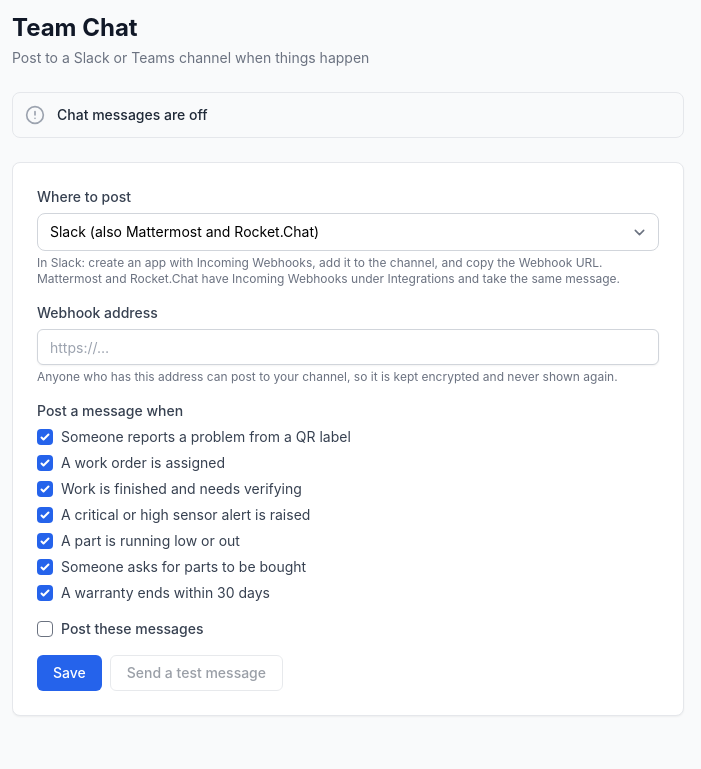
Test: ChatSettingsPage › does not offer to turn messages on without an address
Click the checkbox labelled "Post these messages".
click(45, 629)  # box [37, 621, 53, 637]
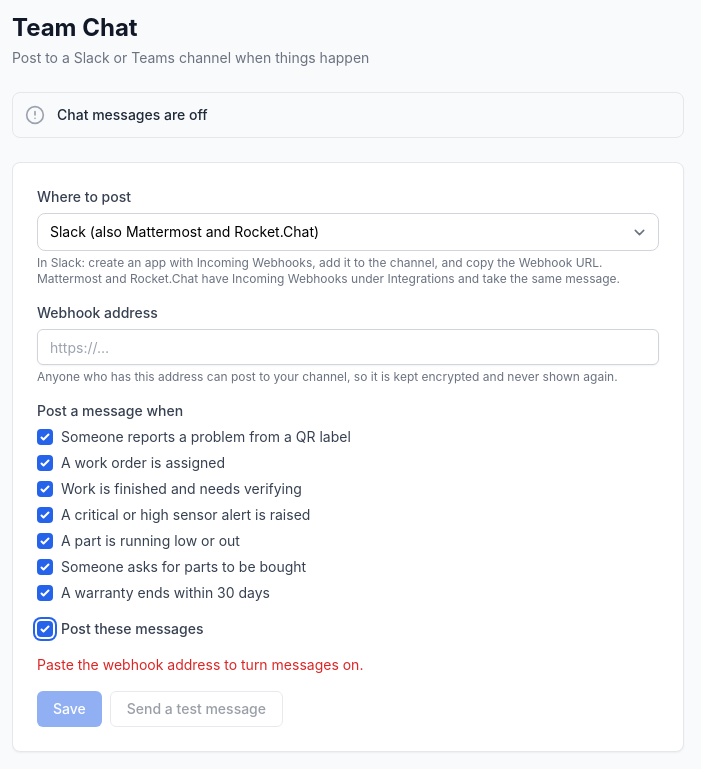
Check: the message shows "Paste the webhook address", box [37, 656, 363, 673]
Check: the button "Save" is disabled, box [37, 691, 102, 727]
